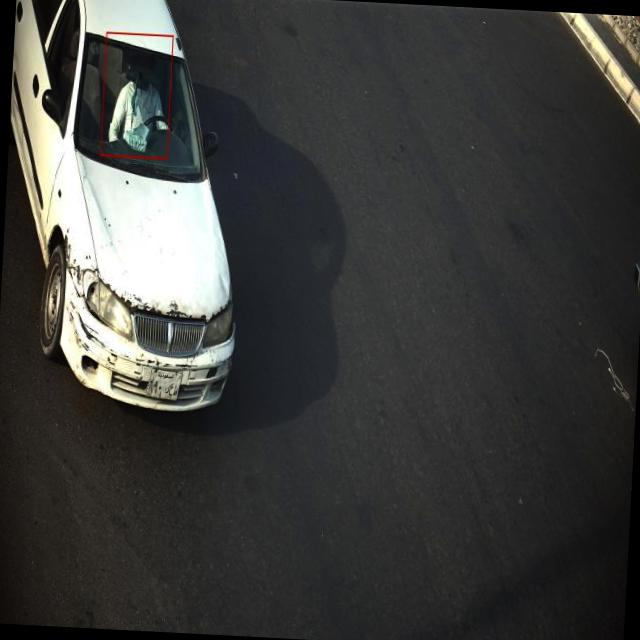person_without_seatbelt: (108, 40, 174, 151)
